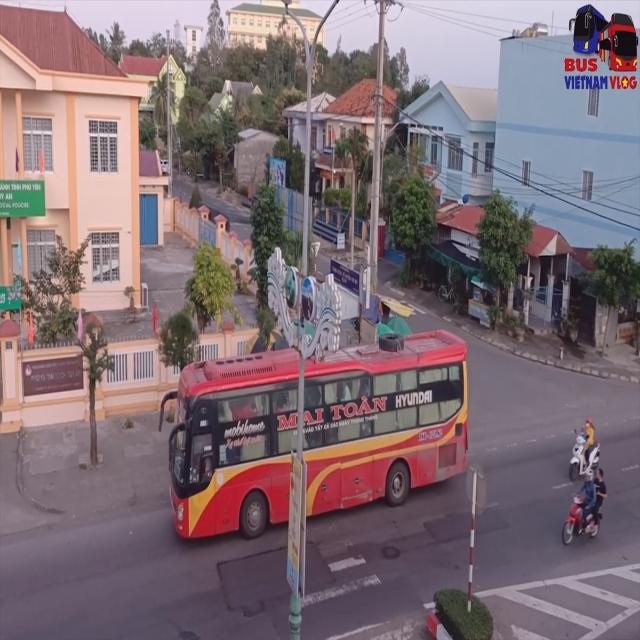bus: (164, 339, 466, 542)
motorbike: (564, 467, 604, 547), (567, 418, 601, 483)
